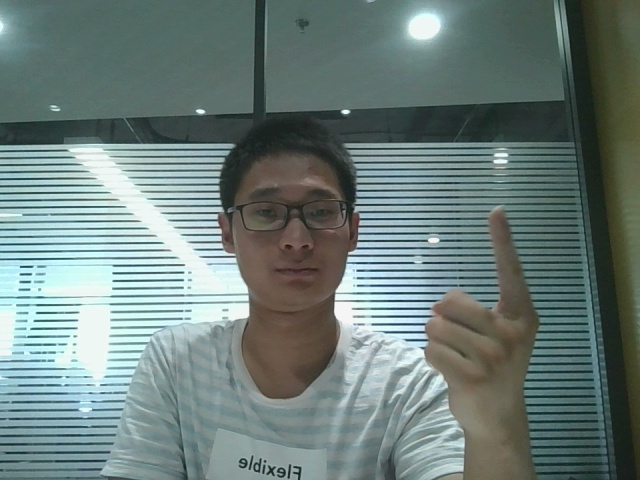up-point: (416, 200, 551, 437)
